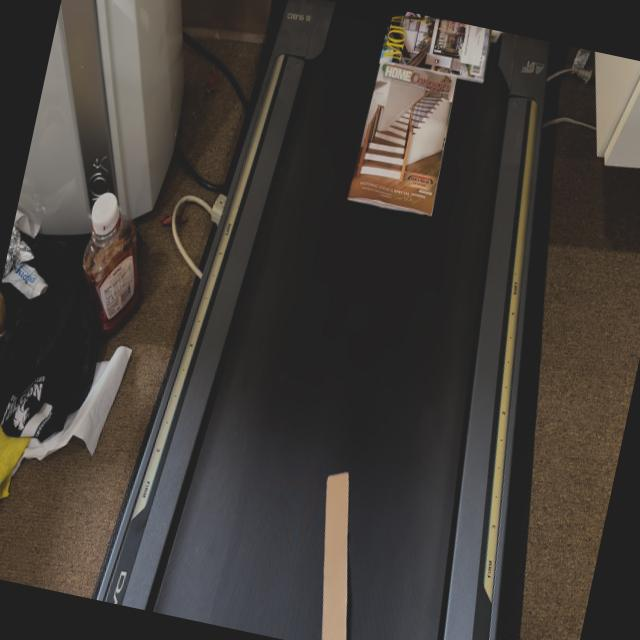Recycle: (340, 7, 502, 236), (290, 452, 396, 640)
